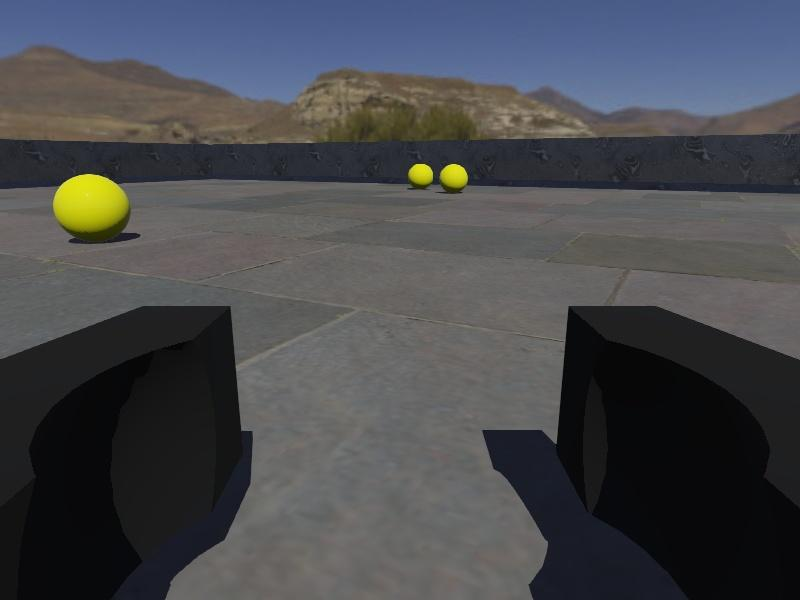yellow ball: (52, 172, 131, 244), (439, 163, 469, 191), (408, 162, 434, 187)
